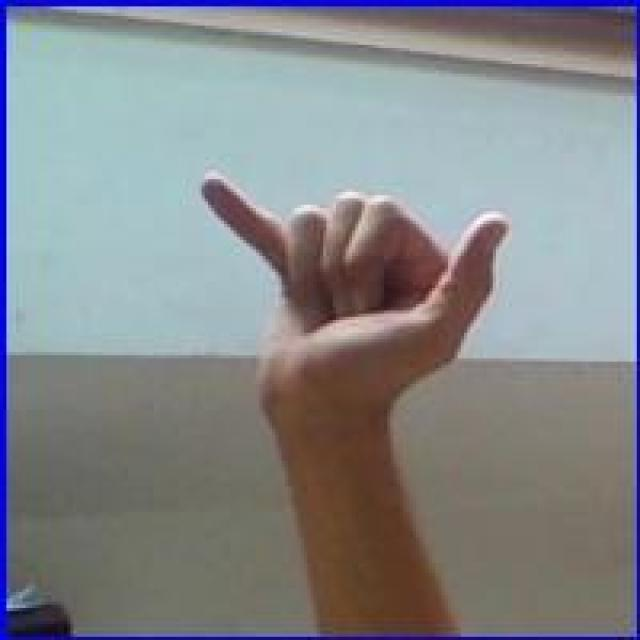Y: (189, 168, 515, 430)
